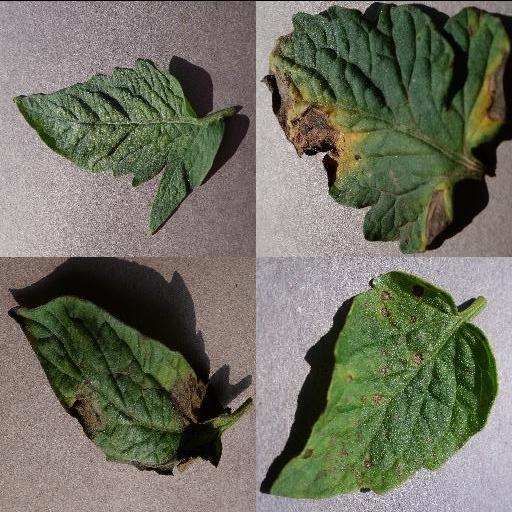Early Blight: (262, 2, 512, 252)
Late Blight: (7, 295, 229, 473)
Septoria: (268, 270, 498, 498)
Spider Mites: (12, 57, 226, 233)
